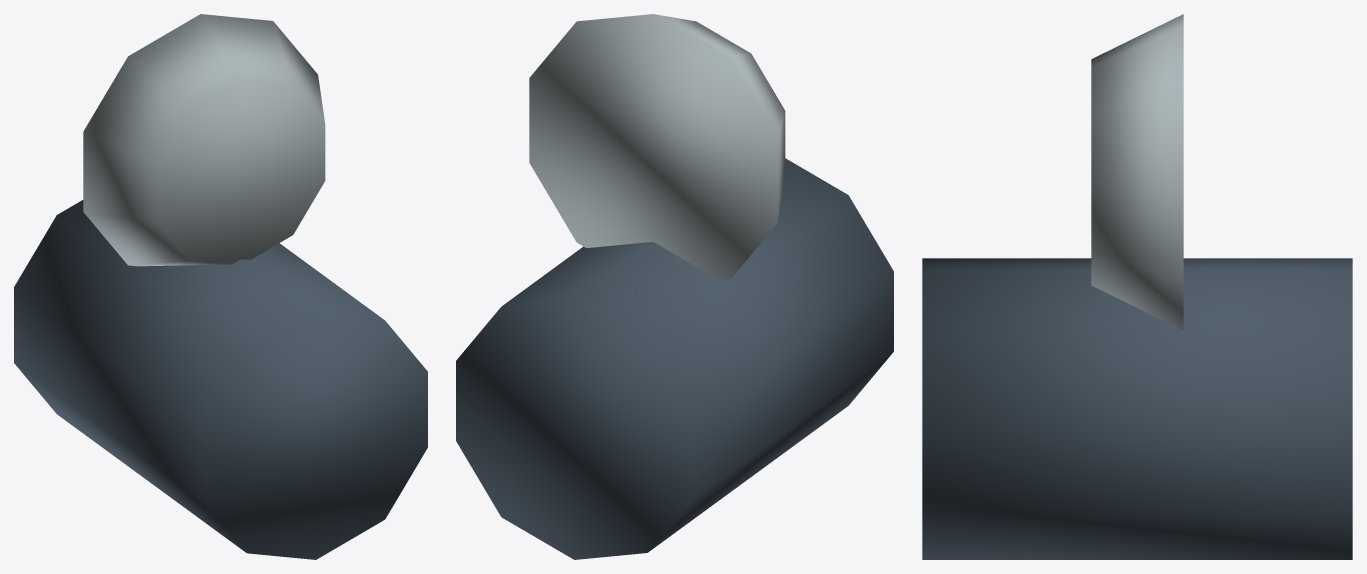
The model's file is trash_bin.glb.
The picture shows the model from 3 angles, left to right: view 1: azimuth 30°, elevation 25°; view 2: azimuth 150°, elevation 25°; view 3: azimuth 270°, elevation 25°; orthographic projection. The views are drawn at different scales.
Visible parts, largest first — view 1: bin_body, bin_lid; view 2: bin_body, bin_lid; view 3: bin_body, bin_lid.
Boxes of the visible parts, left/top/right/bottom form: bin_body: left=14, top=200, right=427, bottom=559; bin_lid: left=83, top=14, right=325, bottom=266; bin_body: left=456, top=158, right=893, bottom=559; bin_lid: left=529, top=14, right=785, bottom=280; bin_body: left=922, top=258, right=1352, bottom=559; bin_lid: left=1091, top=14, right=1183, bottom=330.
Size of the model in its own units: 0.1997 by 0.375 by 0.28.
